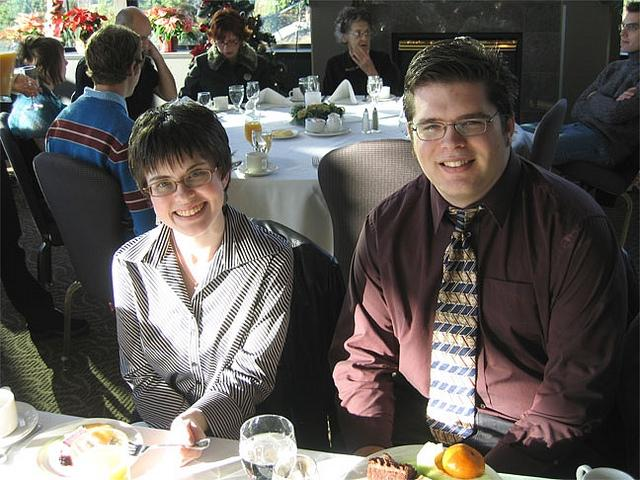orange: (442, 444, 484, 480)
